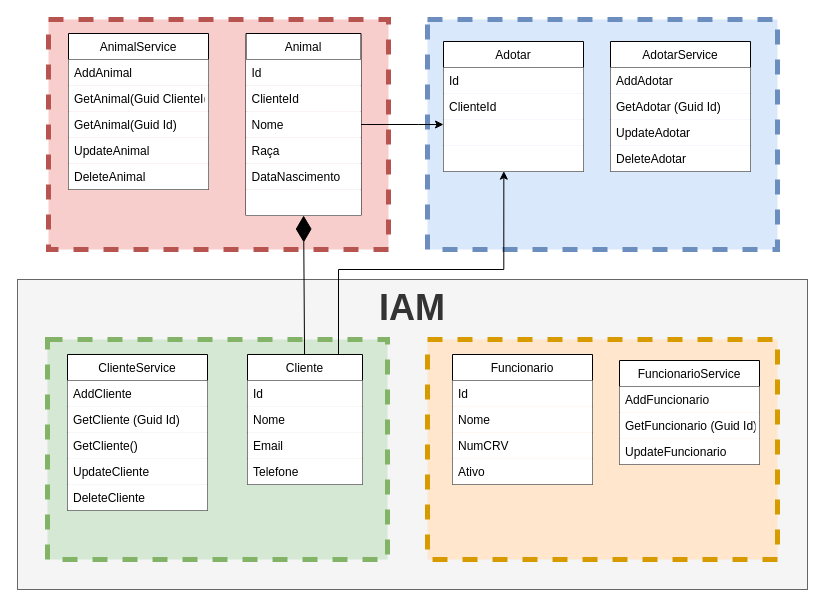
The diagram is 825 pixels wide and 607 high, and some of its shapes have lost their labels. The centre of each missing label's shape, as x and y in pixels:
AnimalId: pixel 513 132
DataAdocao: pixel 513 158
Peso: pixel 303 202
